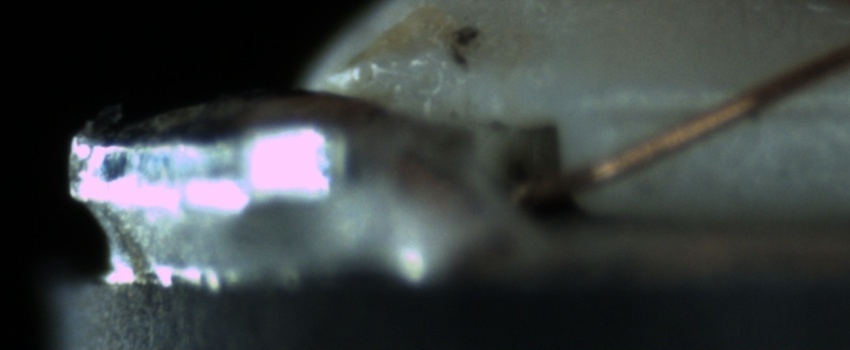DL: (609, 76, 847, 145)
